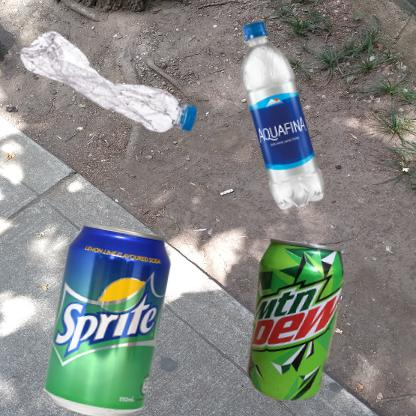botella: (10, 10, 287, 195), (213, 10, 361, 252)
lata: (10, 213, 211, 416), (213, 213, 385, 416)
